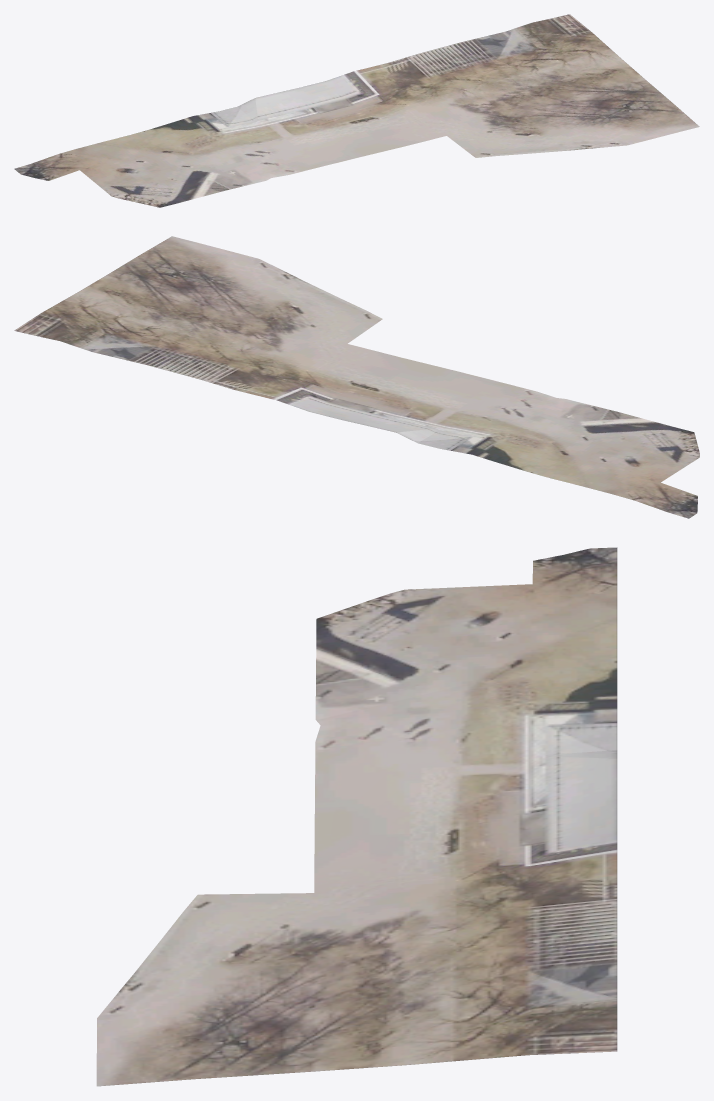
The model's file is CM_Terrain_24487592_6822251.fbx.
3 renders of one model, top to bottom at view 1: azimuth 30°, elevation 25°; view 2: azimuth 150°, elevation 25°; view 3: azimuth 270°, elevation 25°, orthographic. The views are drawn at different scales.
Parts seen in each view (by area): view 1: CM_Terrain_24487592_6822251_LOD0; view 2: CM_Terrain_24487592_6822251_LOD0; view 3: CM_Terrain_24487592_6822251_LOD0.
Boxes of the visible parts, box(x1,y1,x2,y2) form: CM_Terrain_24487592_6822251_LOD0: box(14, 14, 699, 207); CM_Terrain_24487592_6822251_LOD0: box(14, 236, 699, 518); CM_Terrain_24487592_6822251_LOD0: box(96, 547, 617, 1086).
Size of what is drawn, in the model's own units: 89.1 by 3.21 by 36.16.
